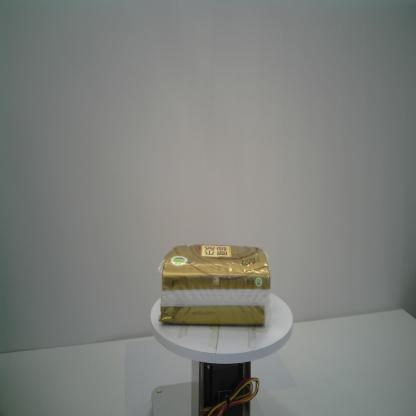Tissue: (158, 242, 272, 328)
